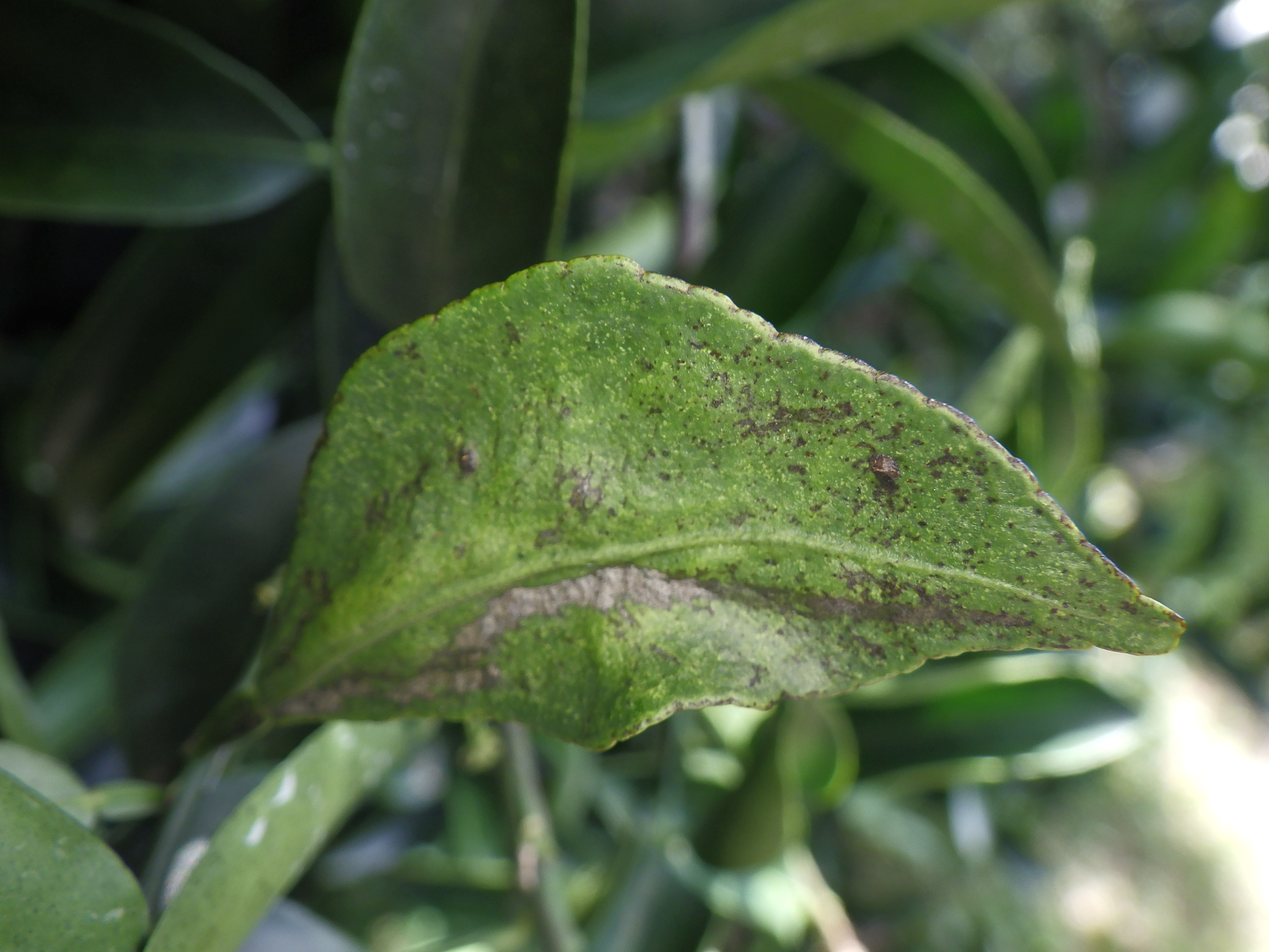Thrips_Damage: (460, 454, 1029, 640)
